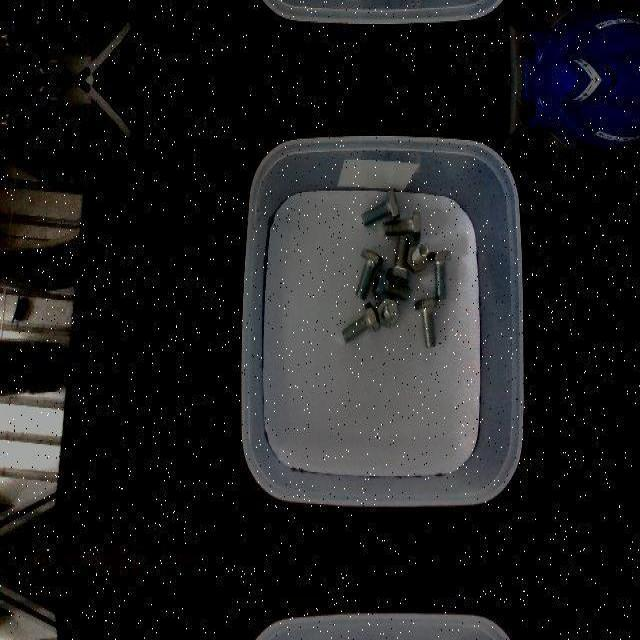screw: (341, 301, 380, 343), (361, 189, 400, 227), (355, 248, 383, 298), (414, 296, 439, 346), (427, 249, 452, 299), (386, 235, 410, 285), (385, 210, 422, 242), (376, 297, 398, 327), (408, 242, 428, 272)
